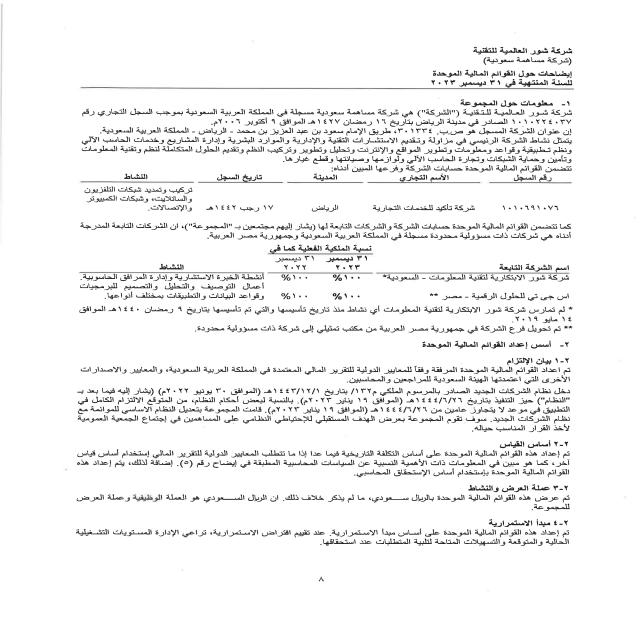notes: (424, 68, 582, 80)
table: (67, 254, 590, 305), (72, 172, 602, 220)
